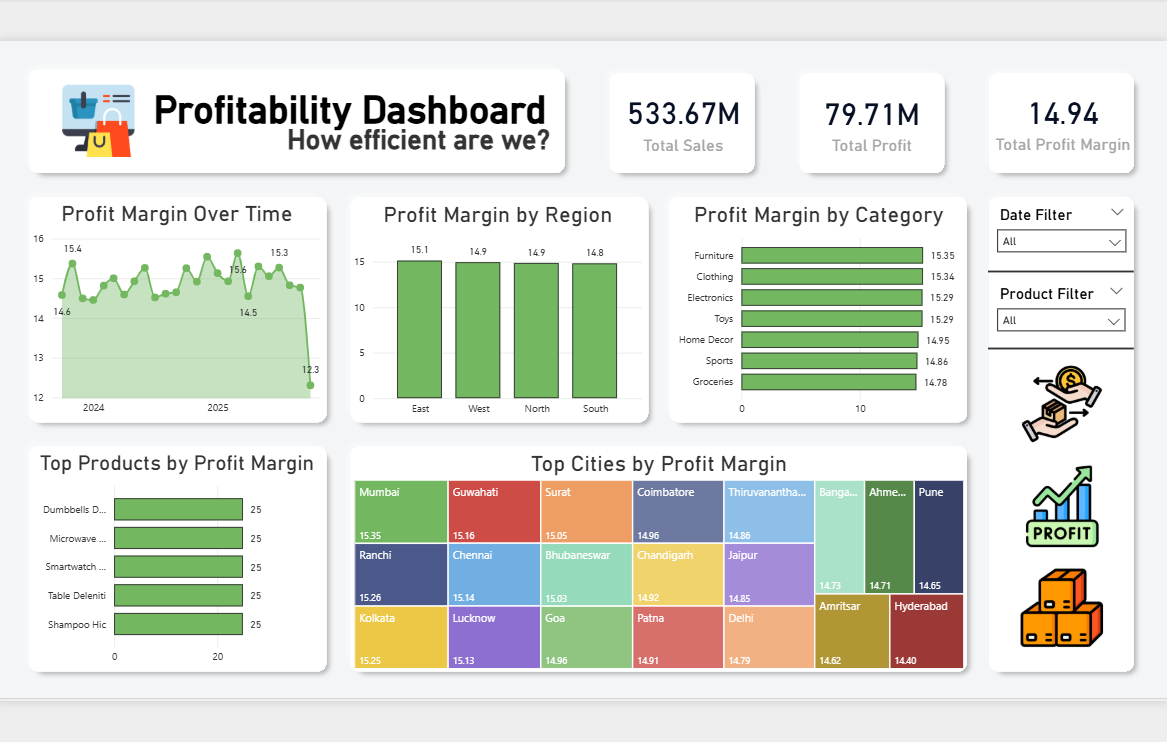

The dashboard page shown, as its layout file describes it:
{"tool":"powerbi","page":{"name":"Profit","canvas":[1280,720],"ordinal":1},"visuals":[{"type":"shape","box":[152.3,39.2,467.1,68.4],"z":0},{"type":"image","box":[51.6,42.6,121.3,89],"z":1000},{"type":"card","fields":{"Values":["Ecommerce_Sales_Data_2024_2025.Total Sales"]},"box":[669.7,31,160,112.3],"z":2000},{"type":"card","fields":{"Values":["Ecommerce_Sales_Data_2024_2025.Total Profit"]},"box":[876.2,31.6,159.3,111.3],"z":3000},{"type":"card","fields":{"Values":["Ecommerce_Sales_Data_2024_2025.Total Profit Margin"]},"box":[1084.7,30.6,159.3,111.3],"z":4000},{"type":"areaChart","title":"Profit Margin Over Time","fields":{"Category":["Ecommerce_Sales_Data_2024_2025.Order Date.Variation.Date Hierarchy.Year","Ecommerce_Sales_Data_2024_2025.Order Date.Variation.Date Hierarchy.Quarter","Ecommerce_Sales_Data_2024_2025.Order Date.Variation.Date Hierarchy.Month","Ecommerce_Sales_Data_2024_2025.Order Date.Variation.Date Hierarchy.Day"],"Y":["Ecommerce_Sales_Data_2024_2025.Total Profit Margin"]},"box":[34.9,174.6,325.2,243.3],"z":5000},{"type":"clusteredColumnChart","title":"Profit Margin by Region","fields":{"Category":["Ecommerce_Sales_Data_2024_2025.Region"],"Y":["Ecommerce_Sales_Data_2024_2025.Total Profit Margin"]},"box":[385.1,175.2,325.1,243.1],"z":6000},{"type":"clusteredBarChart","title":"Profit Margin by Category","fields":{"Category":["Ecommerce_Sales_Data_2024_2025.Category"],"Y":["Ecommerce_Sales_Data_2024_2025.Total Profit Margin"]},"box":[735.5,175.2,325.1,243.1],"z":7000},{"type":"clusteredBarChart","title":"Top Products by Profit Margin","fields":{"Category":["Ecommerce_Sales_Data_2024_2025.Product Name"],"Y":["Ecommerce_Sales_Data_2024_2025.Total Profit Margin"]},"box":[34.9,447.4,325.2,242.3],"z":8000},{"type":"treemap","title":"Top Cities by Profit Margin","fields":{"Group":["Ecommerce_Sales_Data_2024_2025.City"],"Values":["Ecommerce_Sales_Data_2024_2025.Total Profit Margin"]},"box":[385.8,447.7,674.8,242.6],"z":9000},{"type":"slicer","fields":{"Values":["Ecommerce_Sales_Data_2024_2025.Order Date.Variation.Date Hierarchy.Year","Ecommerce_Sales_Data_2024_2025.Order Date.Variation.Date Hierarchy.Month"]},"box":[1082.6,174.2,161.3,71],"z":11000},{"type":"slicer","fields":{"Values":["Ecommerce_Sales_Data_2024_2025.Product Details.Category","Ecommerce_Sales_Data_2024_2025.Product Details.Sub-Category","Ecommerce_Sales_Data_2024_2025.Product Details.Product Name"]},"box":[1082.6,260.6,160,71],"z":12000},{"type":"shape","box":[1082.4,245.5,159.3,12],"z":13000},{"type":"shape","box":[1082.4,331.7,159.3,7.6],"z":14000},{"type":"image","box":[1112.7,457.8,100.4,99.3],"z":15000},{"type":"image","box":[1112.7,568.5,100.4,100.4],"z":16000},{"type":"image","box":[1112.7,345.9,100.4,100.4],"z":17000},{"type":"shape","box":[228.4,72.8,467.1,68.4],"z":18000}]}

Visuals, with their boxes on the page's 1280x720 design canvas (x1, y1, x2, y2). These are canvas units, not pixel positions in the 1167x742 screenshot, which may show the page scaled, cropped or inside an application window:
shape: <region>152, 39, 619, 108</region>
image: <region>52, 43, 173, 132</region>
card - Ecommerce_Sales_Data_2024_2025.Total Sales: <region>670, 31, 830, 143</region>
card - Ecommerce_Sales_Data_2024_2025.Total Profit: <region>876, 32, 1036, 143</region>
card - Ecommerce_Sales_Data_2024_2025.Total Profit Margin: <region>1085, 31, 1244, 142</region>
"Profit Margin Over Time" areaChart: <region>35, 175, 360, 418</region>
"Profit Margin by Region" clusteredColumnChart: <region>385, 175, 710, 418</region>
"Profit Margin by Category" clusteredBarChart: <region>736, 175, 1061, 418</region>
"Top Products by Profit Margin" clusteredBarChart: <region>35, 447, 360, 690</region>
"Top Cities by Profit Margin" treemap: <region>386, 448, 1061, 690</region>
slicer - Ecommerce_Sales_Data_2024_2025.Order Date.Variation.Date Hierarchy.Year x Ecommerce_Sales_Data_2024_2025.Order Date.Variation.Date Hierarchy.Month: <region>1083, 174, 1244, 245</region>
slicer - Ecommerce_Sales_Data_2024_2025.Product Details.Category x Ecommerce_Sales_Data_2024_2025.Product Details.Sub-Category: <region>1083, 261, 1243, 332</region>
shape: <region>1082, 246, 1242, 258</region>
shape: <region>1082, 332, 1242, 339</region>
image: <region>1113, 458, 1213, 557</region>
image: <region>1113, 568, 1213, 669</region>
image: <region>1113, 346, 1213, 446</region>
shape: <region>228, 73, 696, 141</region>
